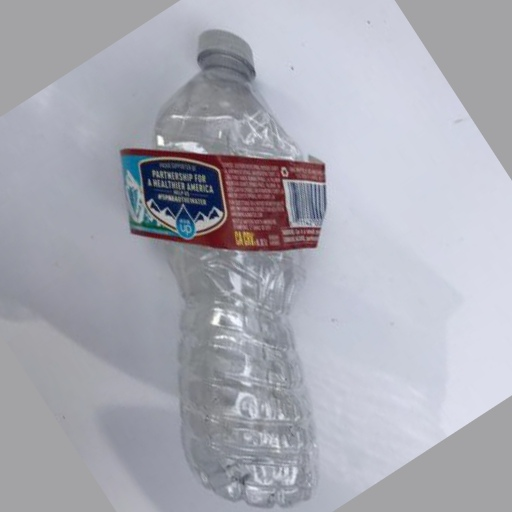Plastic_0: (150, 27, 315, 505)
